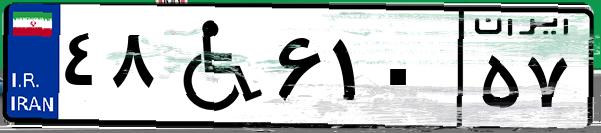0: (385, 28, 445, 110)
1: (330, 28, 385, 110)
4: (57, 26, 110, 100)
5: (475, 38, 525, 113)
6: (270, 28, 330, 110)
7: (525, 38, 570, 115)
8: (110, 28, 158, 98)
ژ (معلولین و جانبازان): (158, 12, 270, 120)
